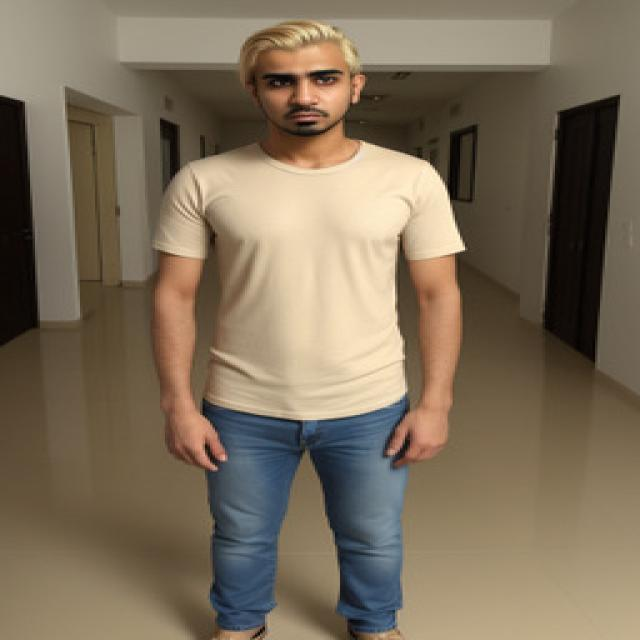Ai human 2: (135, 11, 476, 640)
